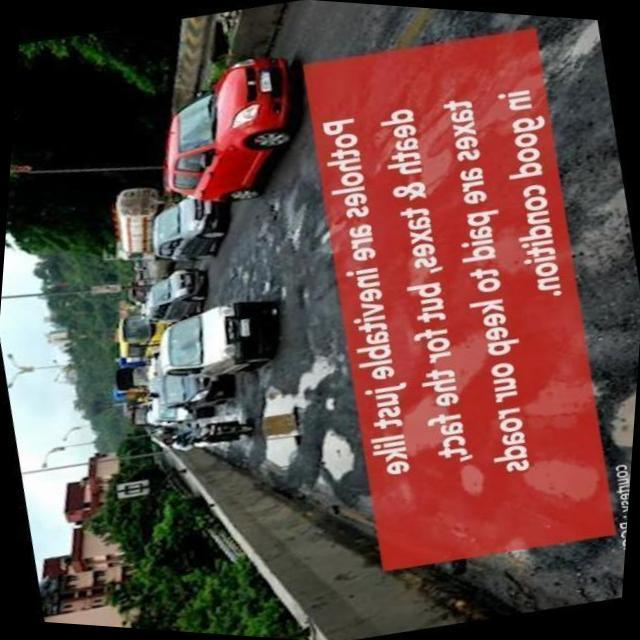pothole: (245, 346, 335, 470), (510, 453, 605, 508), (318, 409, 356, 481), (280, 170, 312, 250), (608, 390, 636, 443), (458, 458, 489, 501), (302, 286, 314, 304), (276, 282, 286, 300)
